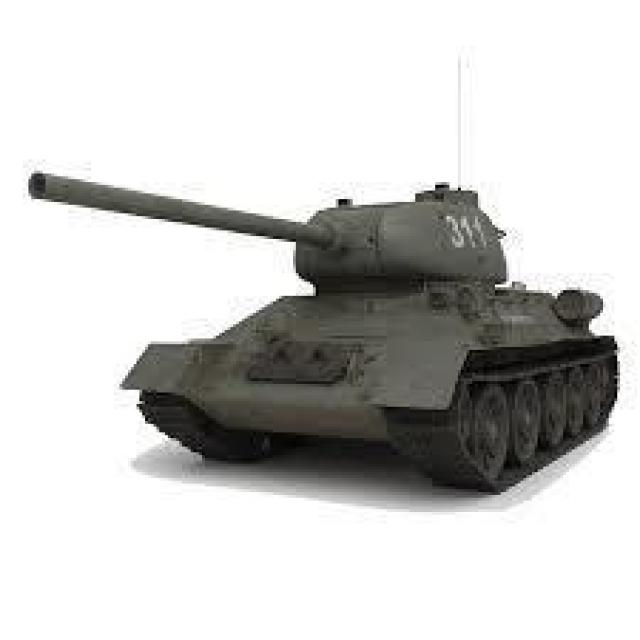Tanks: (16, 136, 630, 506)
